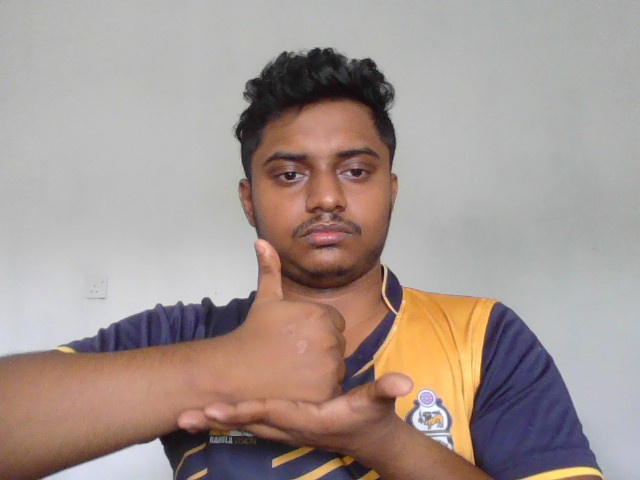Help: (178, 238, 414, 456)
